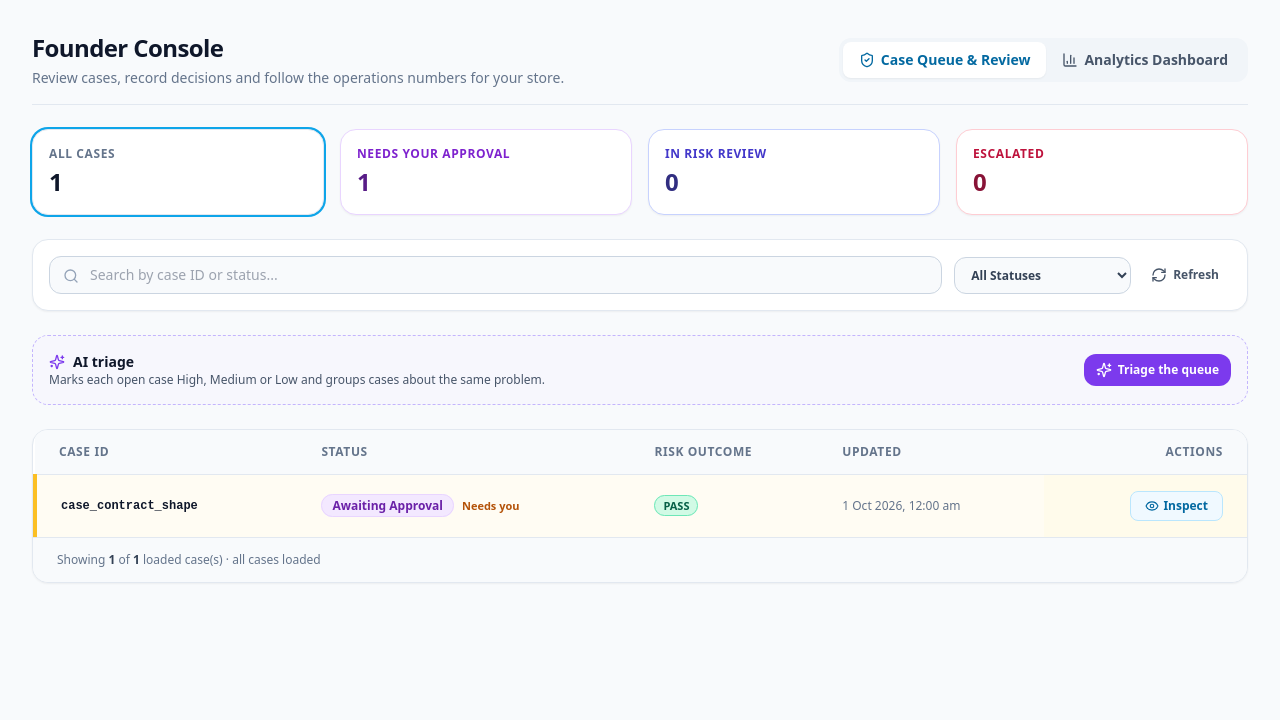
FounderConsole failure and live-mode paths › live mode: keeps Approve disabled with a reason when the server sent no action preview
Click the button "Inspect" at [1177, 506], box [1130,491,1223,521]
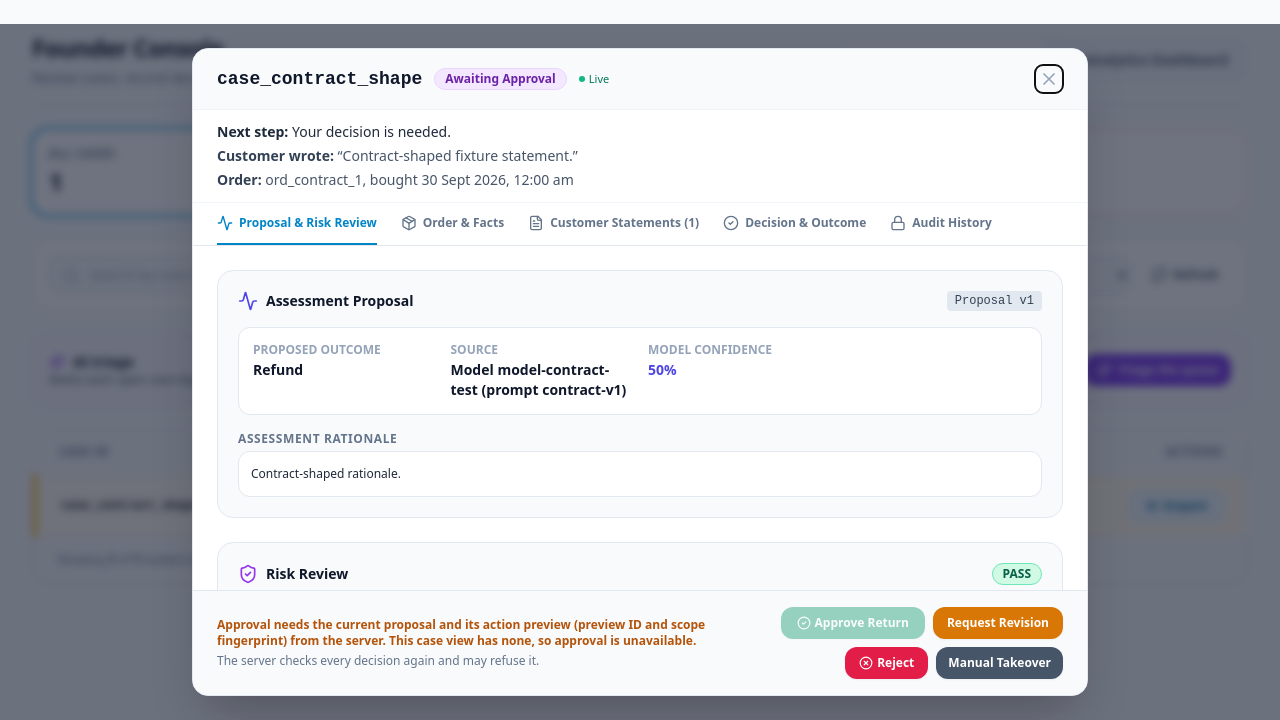
Check: the text "This case view has none, so approval is unavailable" is shown, box [217,616,705,649]
Check: the button "Approve Return" is disabled, box [781,607,925,639]
Check: the button "Reject" is enabled, box [845,647,928,679]
